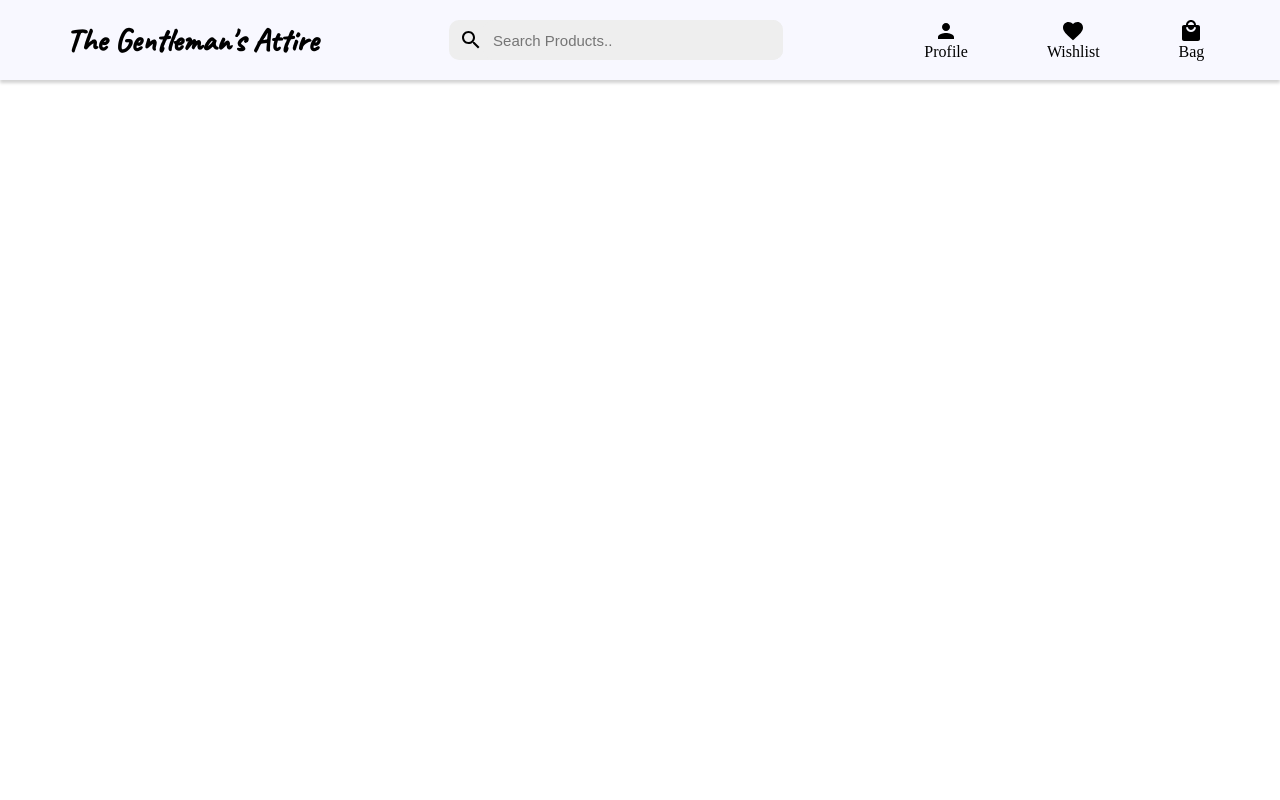
Test: Wishlist › Empty wishlist component is rendering if the wishlist is empty
The width and height of the screenshot is (1280, 800).
Click the link with test id "wishlistElement".
click(1073, 40)  # box [1047,19,1100,61]
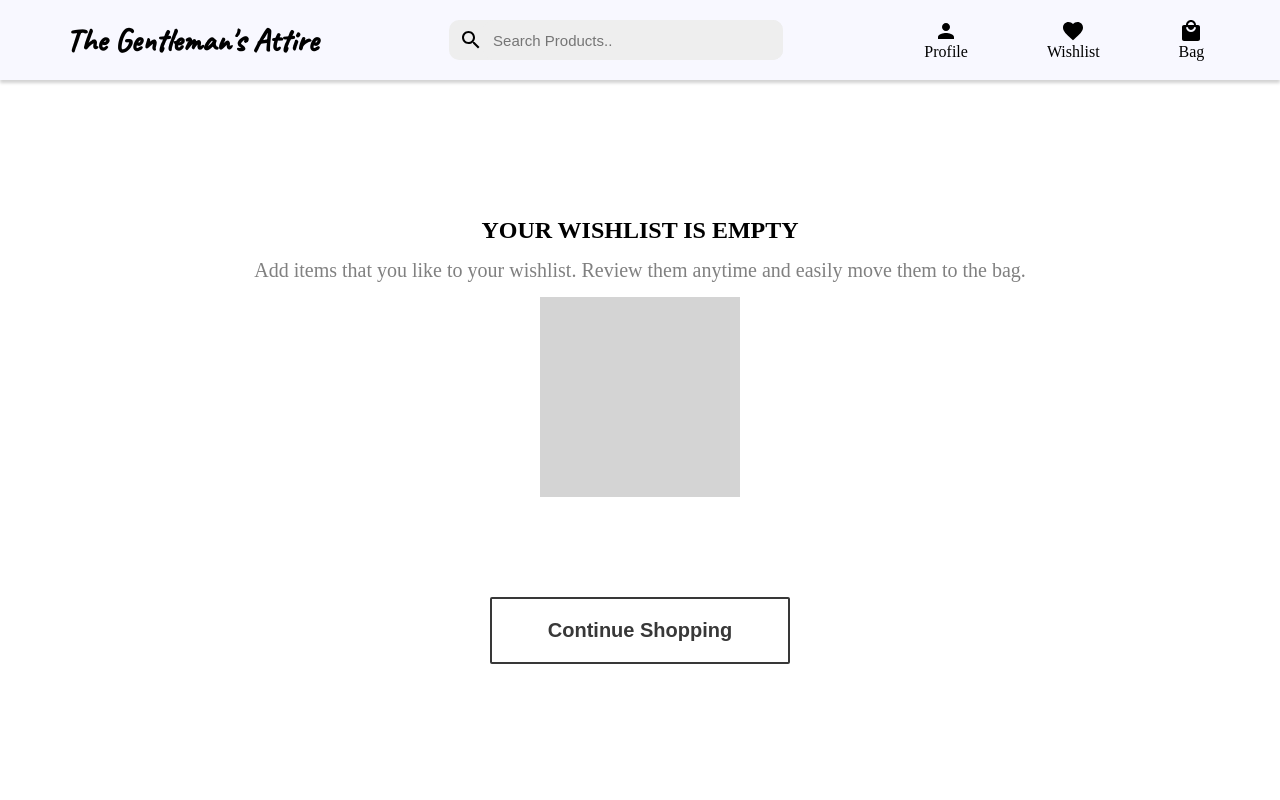
Now the element with test id "EmptyWishlistElement" is shown, box [254,216,1026,664]
